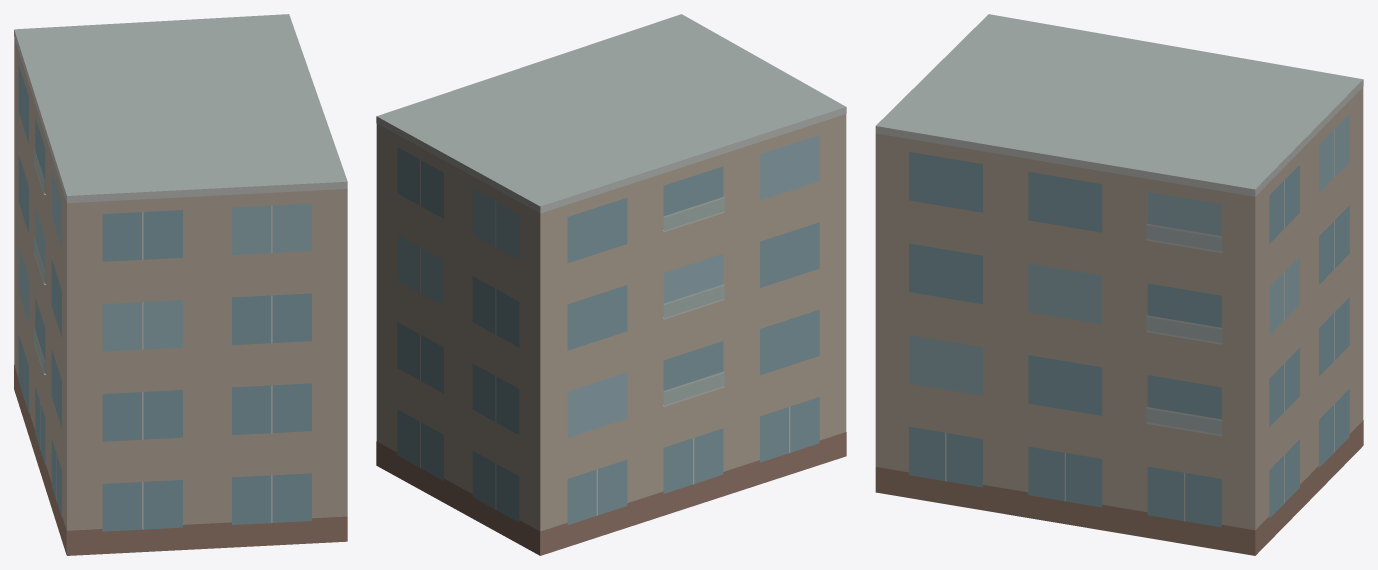
File: survey-upis-32656374.glb
The picture shows the model from 3 angles, left to right: view 1: azimuth 30°, elevation 25°; view 2: azimuth 150°, elevation 25°; view 3: azimuth 270°, elevation 25°; orthographic projection. The views are drawn at different scales.
Visible parts, largest first — view 1: survey-upis-32656374.tmp; view 2: survey-upis-32656374.tmp; view 3: survey-upis-32656374.tmp.
Part boxes in pixels (left/top/right/bottom): survey-upis-32656374.tmp: left=14, top=14, right=347, bottom=555; survey-upis-32656374.tmp: left=376, top=14, right=846, bottom=555; survey-upis-32656374.tmp: left=875, top=14, right=1363, bottom=555.
Size of the model in its own units: 12.54 by 12.2 by 14.73.
